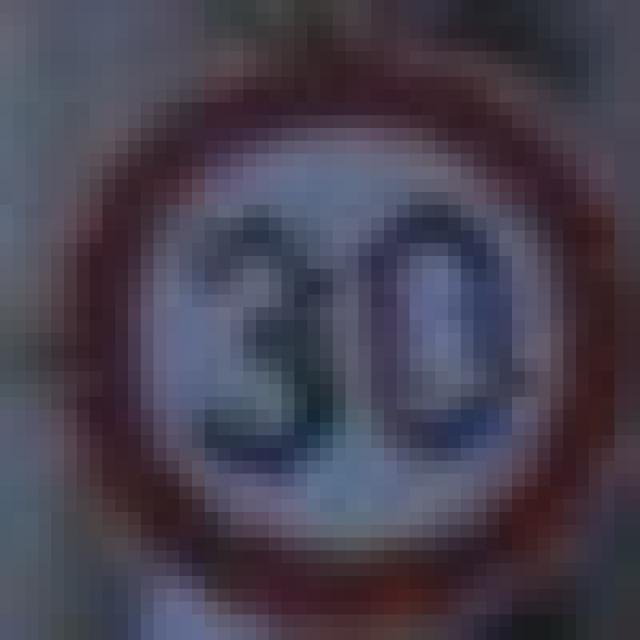SPEED_LIMIT_30: (39, 38, 602, 589)
